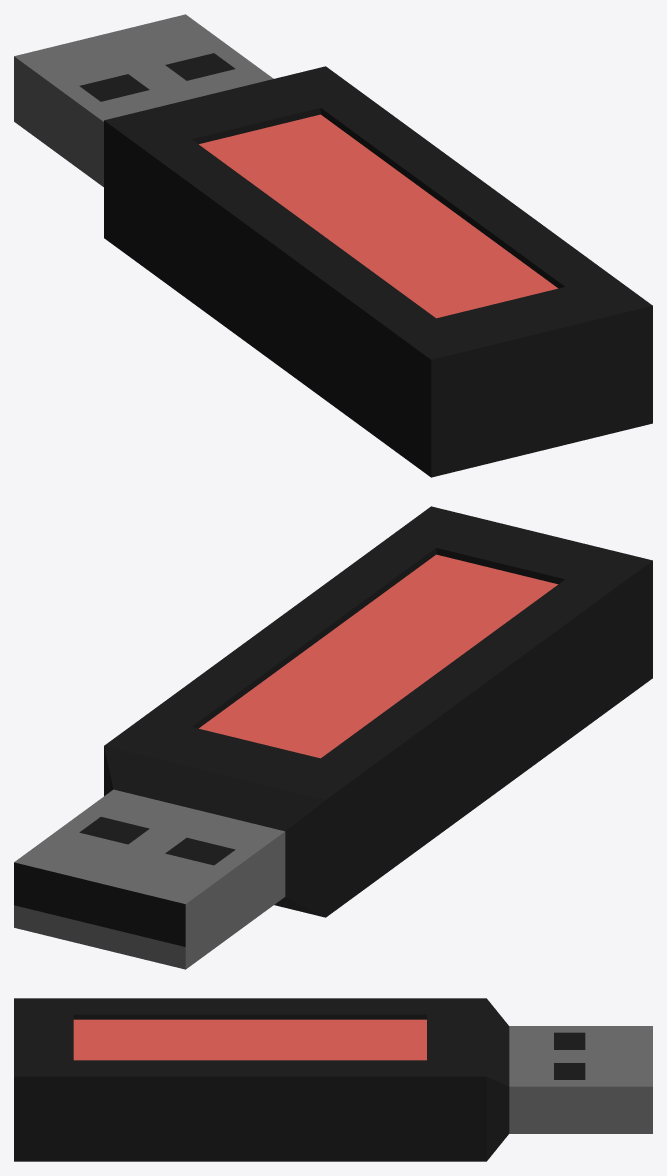
Rendered from pendrive.fbx.
3 views of the same model, one above another, from view 1: azimuth 30°, elevation 25°; view 2: azimuth 150°, elevation 25°; view 3: azimuth 270°, elevation 25° (orthographic). The views are drawn at different scales.
Visible parts, largest first — view 1: Pendrivie; view 2: Pendrivie; view 3: Pendrivie.
Boxes of the visible parts, x1=… form: Pendrivie: x1=14, y1=14, x2=652, y2=477; Pendrivie: x1=14, y1=506, x2=652, y2=969; Pendrivie: x1=14, y1=998, x2=652, y2=1161.
Bounding box in the file's own units: 0.0469 × 0.0238 × 0.162.
